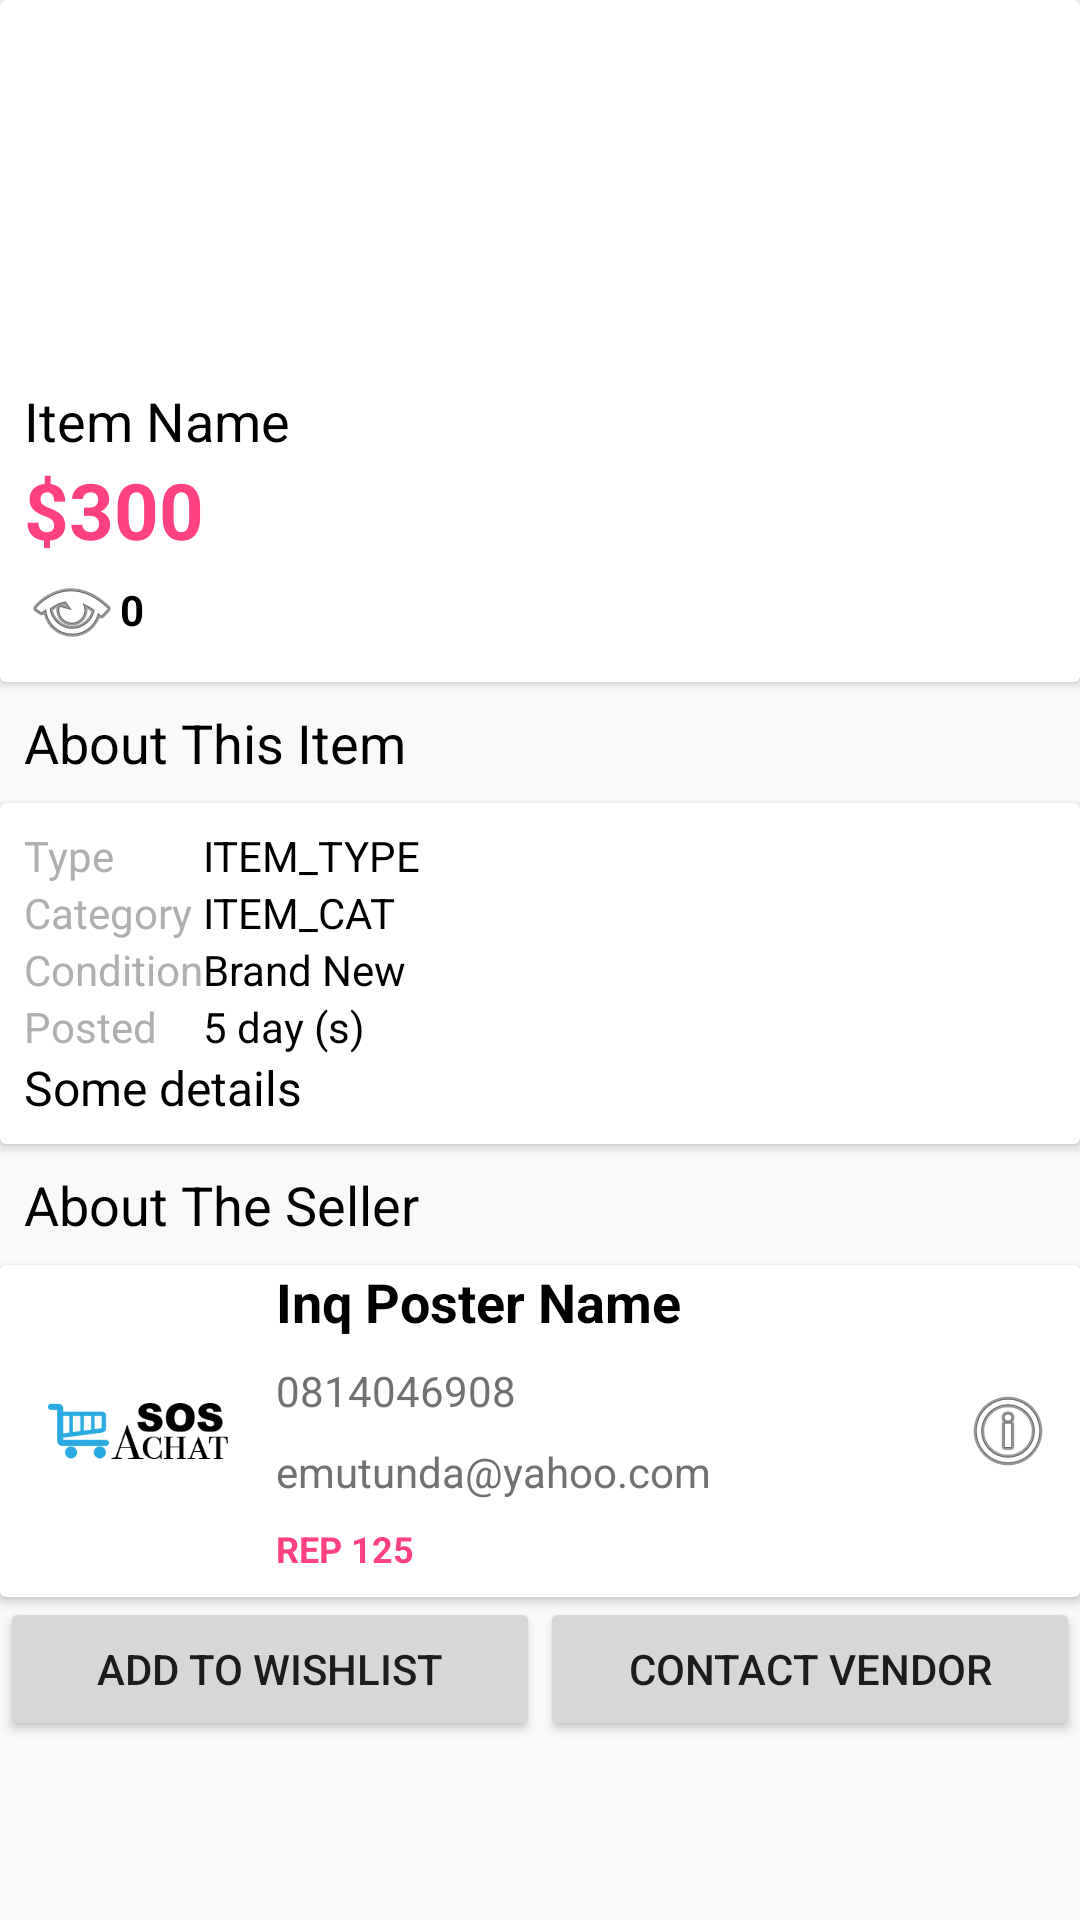

Where icons sit on this 1080w x 1920h app screen, as box(x1, y1, x2, y2):
info details: box(973, 1396, 1043, 1466)
view: box(33, 588, 111, 637)
